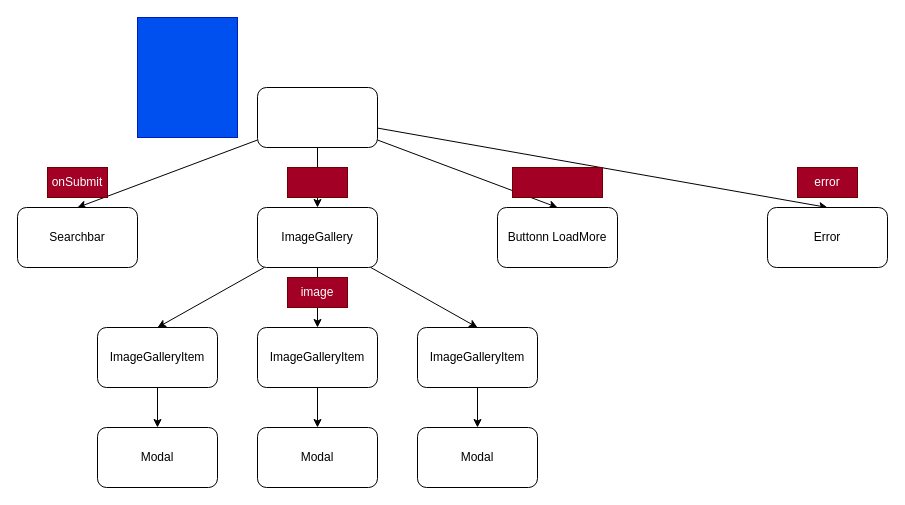
Some shapes in this 905 by 505 pixel diagram are drawn without their labels. The shapes that lost their labels are listed below. From the top down, each one's centre as x and y in pixels, then its label:
the point at 187,77: state: query page images totalPages status error
the point at 317,117: App
the point at 317,182: images
the point at 557,182: onLoadMore
